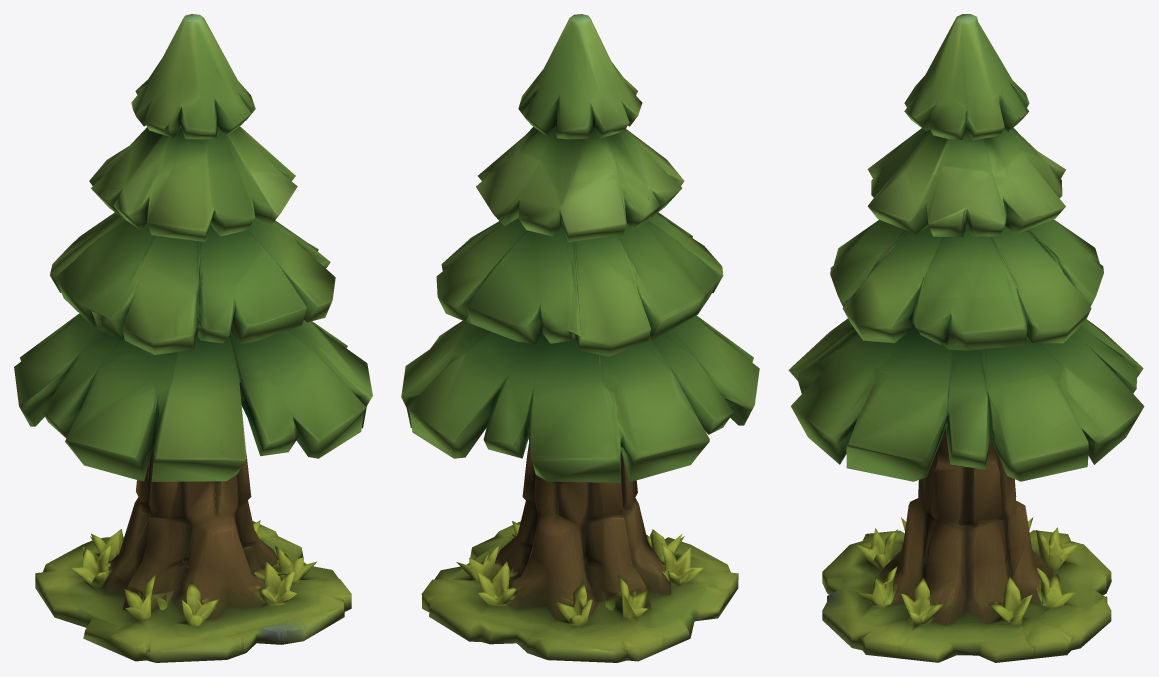
The model's file is Tree2.fbx.
3 views of the same model, side by side, from view 1: azimuth 30°, elevation 25°; view 2: azimuth 150°, elevation 25°; view 3: azimuth 270°, elevation 25° (orthographic).
Parts seen in each view (by area): view 1: Mesh_0; view 2: Mesh_0; view 3: Mesh_0.
Part boxes in pixels (x1,y1,x2,y2): Mesh_0: (14, 14, 372, 662); Mesh_0: (401, 14, 759, 662); Mesh_0: (788, 14, 1144, 662).
Bounding box in the file's own units: 105 × 191 × 106.
Materials: 1 (1 with a texture image).
